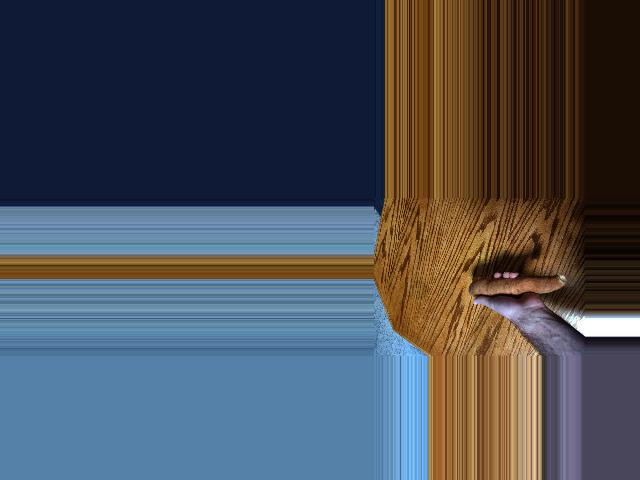sweet_potato: (472, 275, 567, 304)
